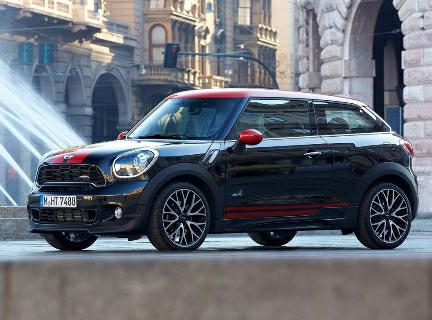MINI-JCWPACEMAN: (29, 84, 432, 255)
